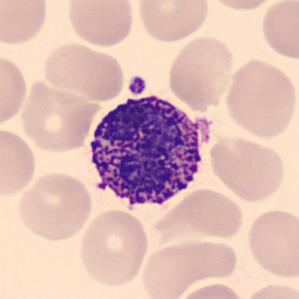Basophil: (82, 89, 214, 218)
Platelets: (126, 74, 149, 97)
RBC: (138, 235, 242, 299), (221, 55, 298, 141), (77, 207, 152, 290), (18, 78, 97, 154), (15, 169, 95, 244), (206, 133, 287, 204), (147, 185, 247, 242), (164, 33, 235, 111), (40, 40, 127, 102), (243, 206, 298, 281), (66, 0, 136, 49), (134, 0, 211, 44), (0, 125, 38, 198), (258, 0, 298, 62), (0, 0, 50, 47), (0, 51, 30, 129), (175, 281, 248, 299), (243, 280, 298, 299), (204, 0, 284, 12)
